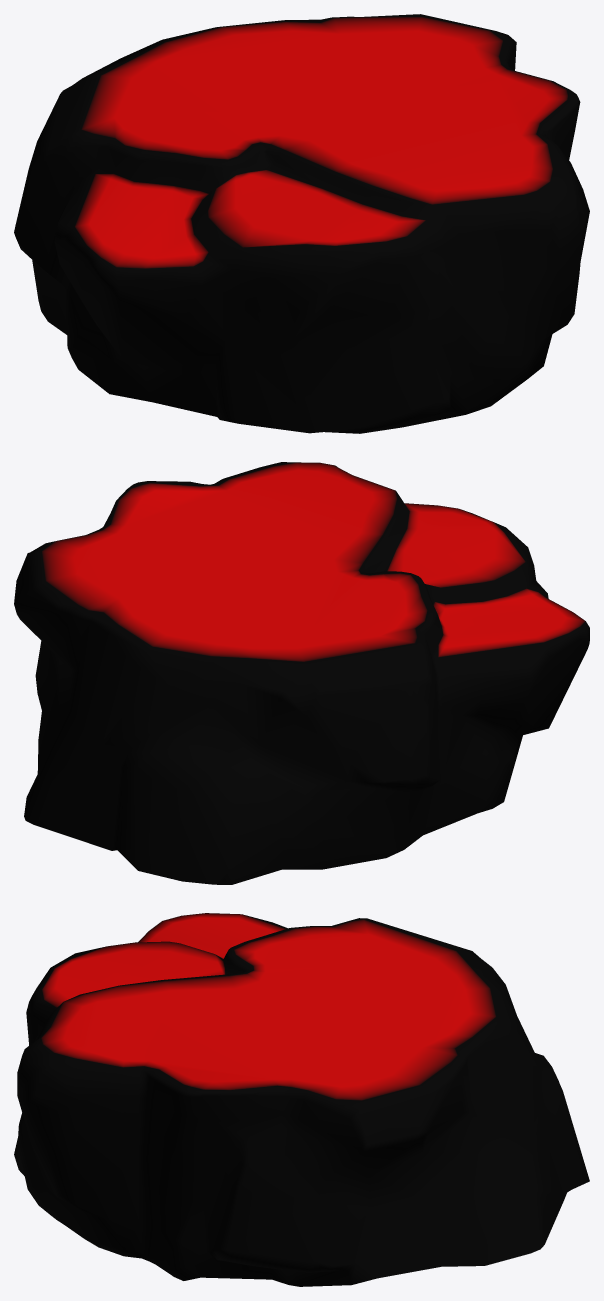
The model's file is Shitou_hill_04.fbx.
3 renders of one model, top to bottom at view 1: azimuth 30°, elevation 25°; view 2: azimuth 150°, elevation 25°; view 3: azimuth 270°, elevation 25°, orthographic. The views are drawn at different scales.
Visible parts, largest first — view 1: Shitou_hill_04_LOD0; view 2: Shitou_hill_04_LOD0; view 3: Shitou_hill_04_LOD0.
Boxes of the visible parts, <box> form: Shitou_hill_04_LOD0: <box>14,14,589,433</box>; Shitou_hill_04_LOD0: <box>14,462,589,884</box>; Shitou_hill_04_LOD0: <box>14,913,589,1286</box>.
Size of the model in its own units: 379 by 154 by 394.
